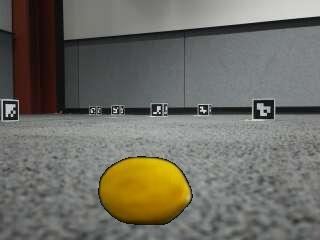lemon: (99, 158, 191, 225)
